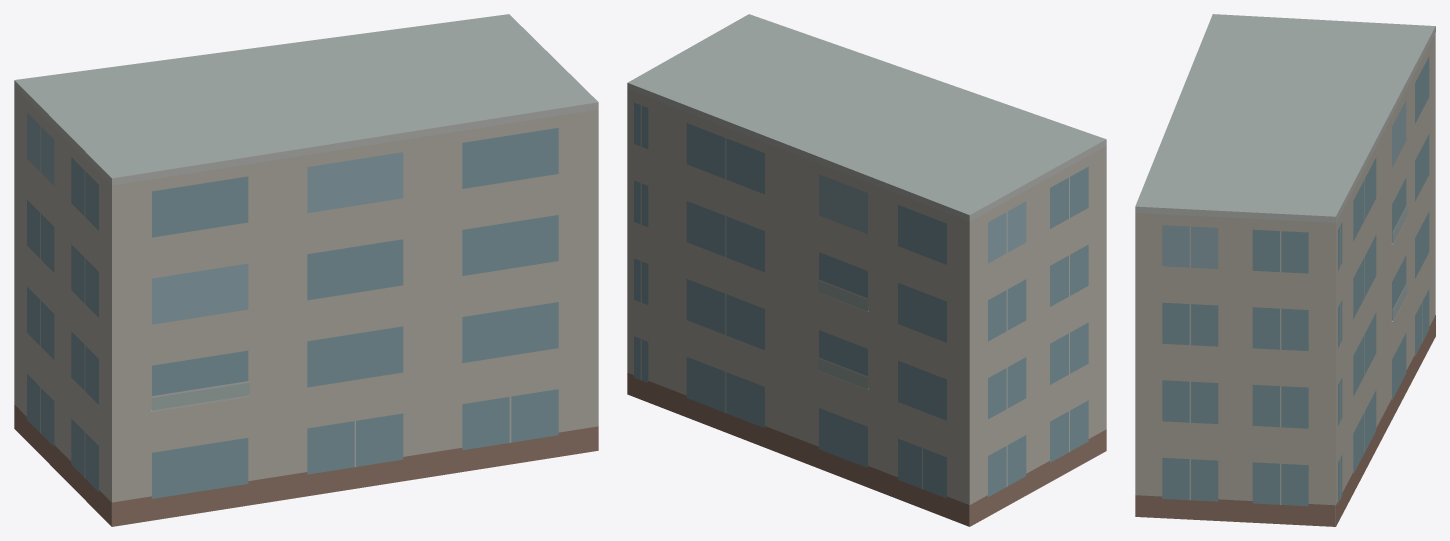
The model's file is survey-upis-33040297.glb.
3 renders of one model, left to right at view 1: azimuth 30°, elevation 25°; view 2: azimuth 150°, elevation 25°; view 3: azimuth 270°, elevation 25°, orthographic. The views are drawn at different scales.
Parts seen in each view (by area): view 1: survey-upis-33040297.tmp; view 2: survey-upis-33040297.tmp; view 3: survey-upis-33040297.tmp.
Boxes of the visible parts, left/top/right/bottom form: survey-upis-33040297.tmp: left=14, top=14, right=598, bottom=526; survey-upis-33040297.tmp: left=627, top=14, right=1106, bottom=526; survey-upis-33040297.tmp: left=1135, top=14, right=1435, bottom=526.
Size of the model in its own units: 16.68 by 11.9 by 10.46.
